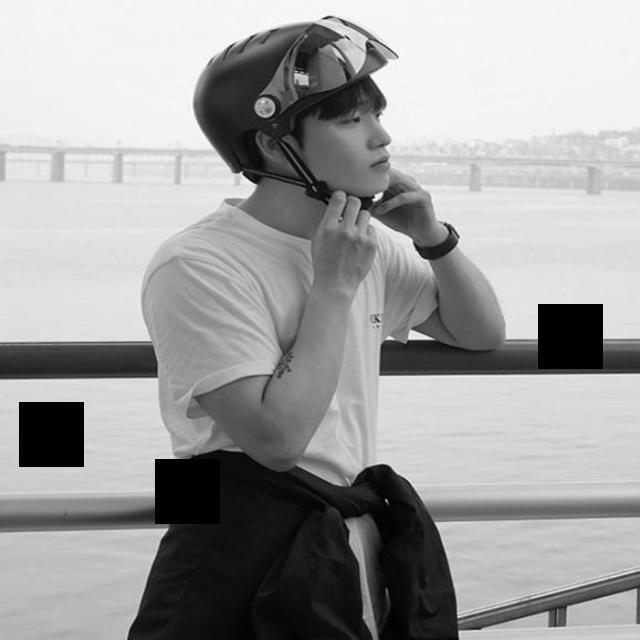helmet: (167, 8, 412, 151)
